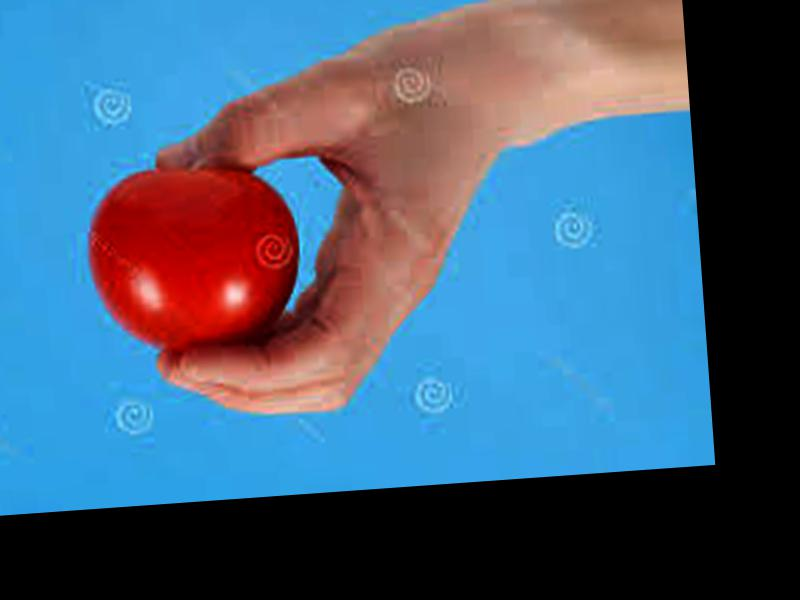Tomato: (84, 160, 303, 360)
